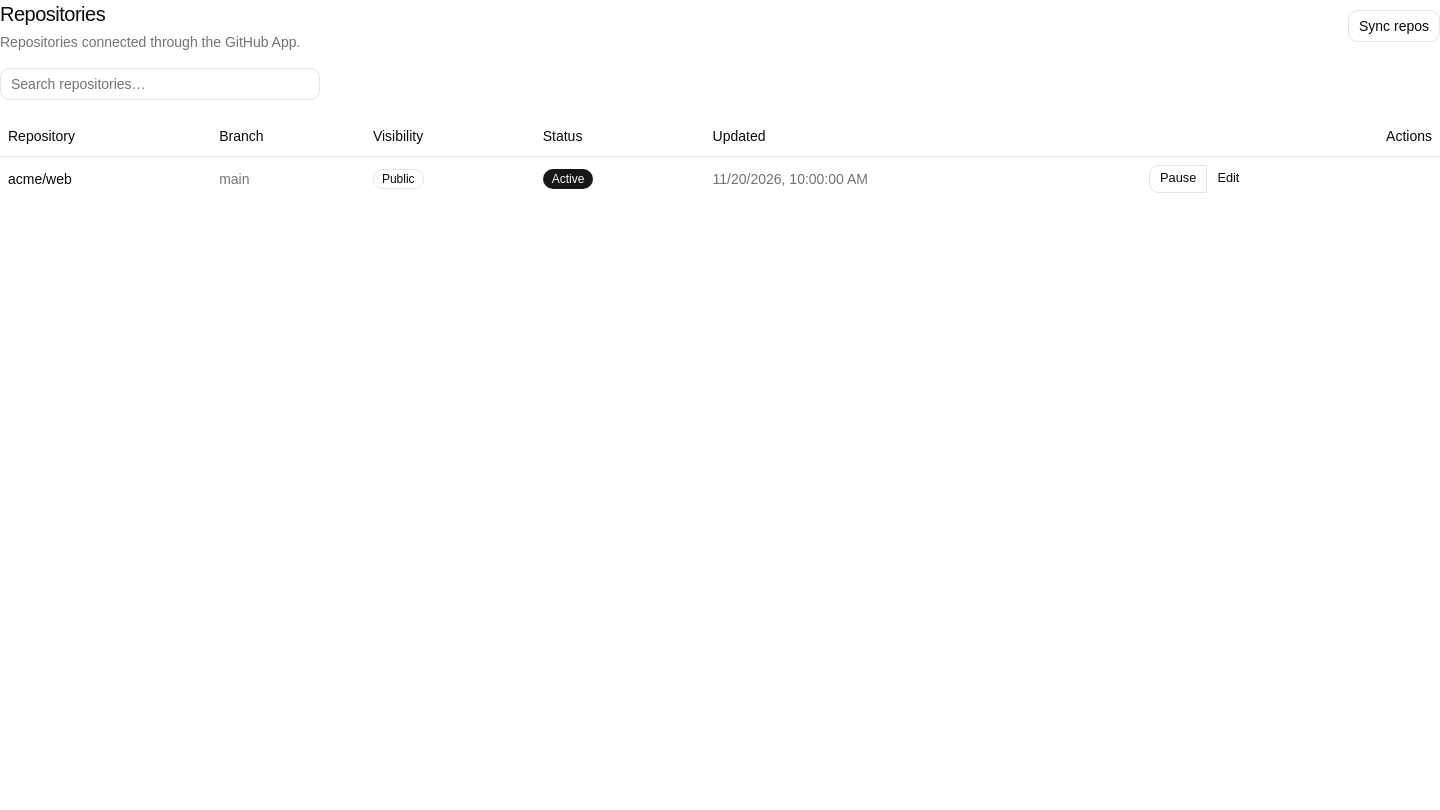
Test: repositories › shows sync, edit and delete controls to a maintainer
Expected: the text "acme/web" is shown, [0,156,211,200]
Expected: the button "Sync repos" is shown, [1348,10,1439,42]
Click the button with aria-label "Edit acme/web" at [1229, 178], box [1207,164,1250,192]
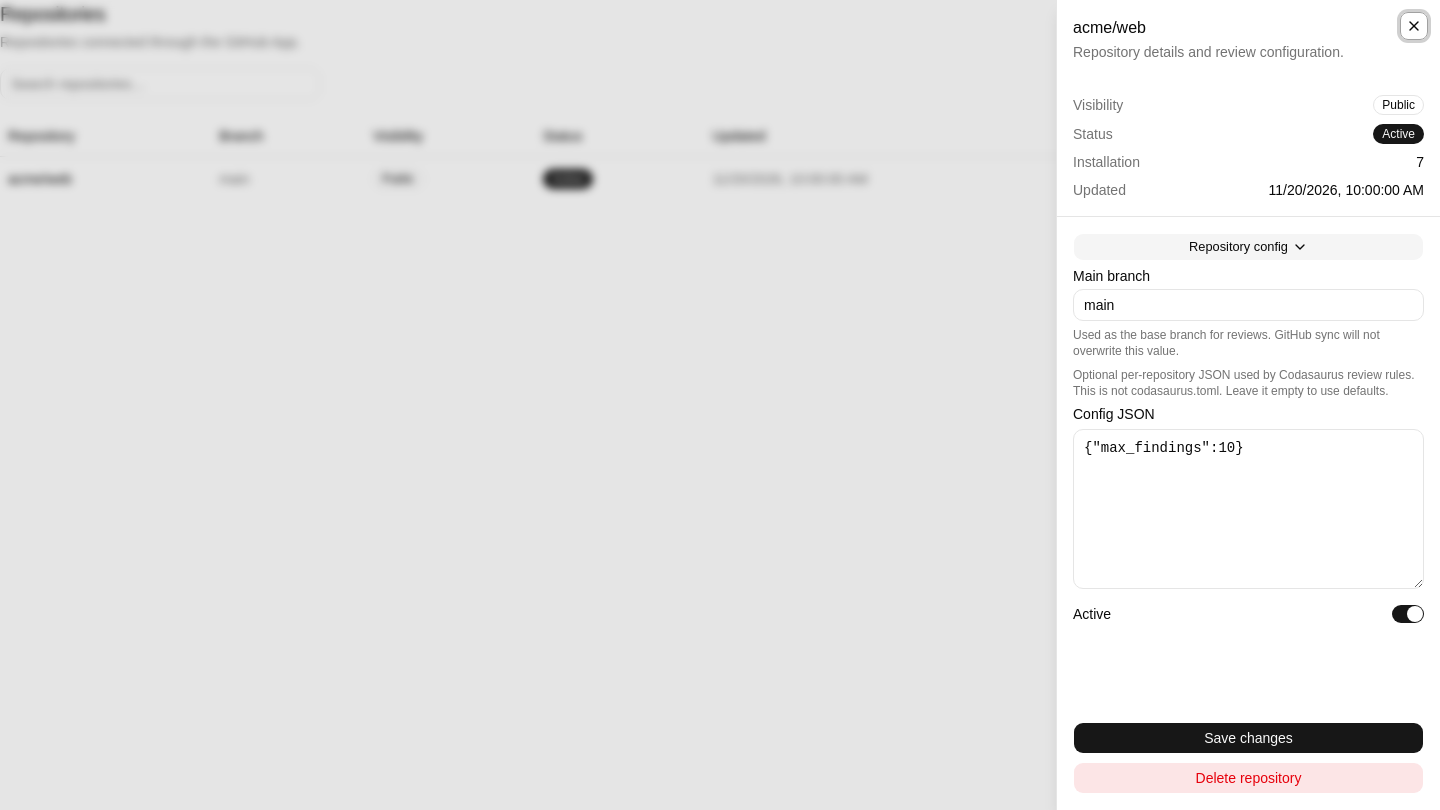
Result: the text box labelled "Config JSON" is shown at [1073,429,1424,589]
Result: the button "Save changes" is shown at [1073,722,1424,754]
Result: the button "Delete repository" is shown at [1073,762,1424,794]
